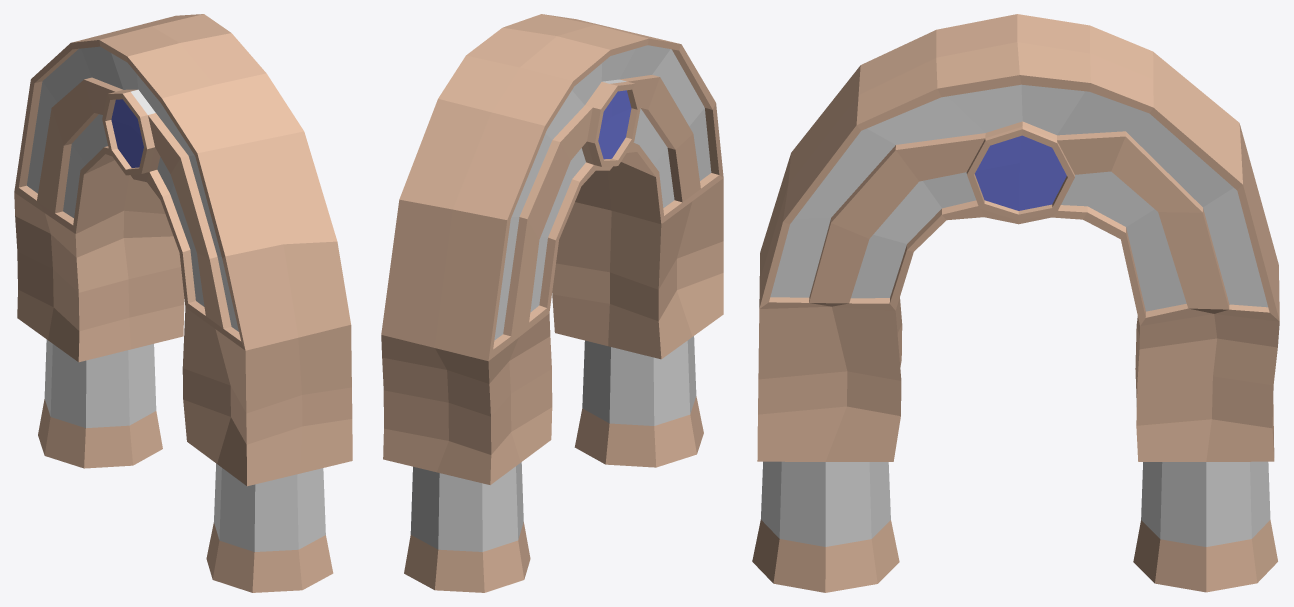
File: gate.fbx
The picture shows the model from 3 angles, left to right: view 1: azimuth 30°, elevation 25°; view 2: azimuth 150°, elevation 25°; view 3: azimuth 270°, elevation 25°; orthographic projection. The views are drawn at different scales.
Parts seen in each view (by area): view 1: Cube; view 2: Cube; view 3: Cube.
Part boxes in pixels (x1,y1,x2,y2): Cube: (14,14,352,592); Cube: (381,14,723,592); Cube: (752,14,1279,592).
Bounding box in the file's own units: 228 × 838 × 775.
